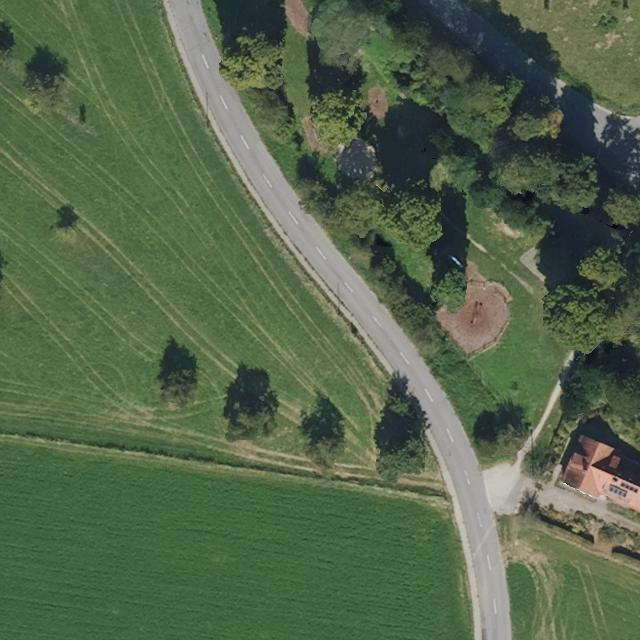PV: (608, 482, 629, 499)
